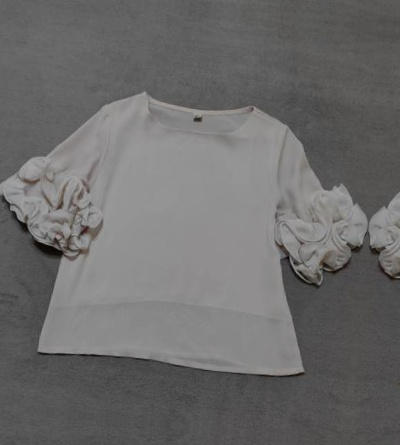Blouse: (0, 61, 377, 403), (355, 100, 400, 443)
